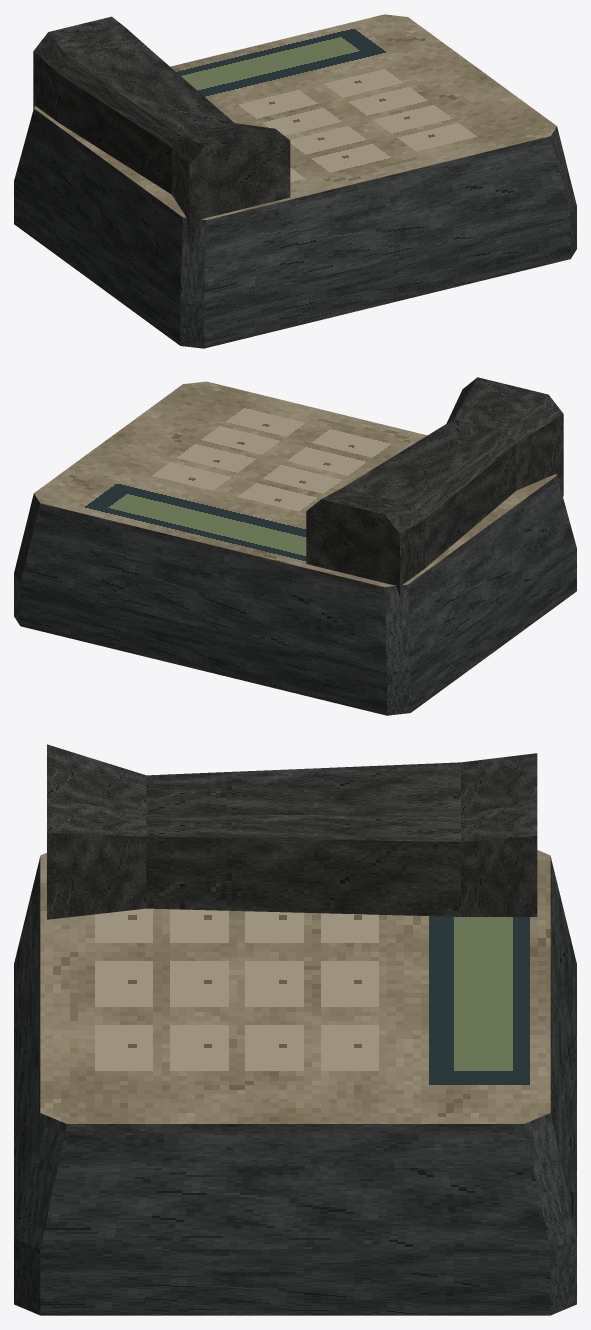
File: phone.glb
3 renders of one model, top to bottom at view 1: azimuth 30°, elevation 25°; view 2: azimuth 150°, elevation 25°; view 3: azimuth 270°, elevation 25°, orthographic. The views are drawn at different scales.
Visible parts, largest first — view 1: Body; view 2: Body; view 3: Body.
Part boxes in pixels (left/top/right/bottom): Body: left=14, top=14, right=576, bottom=348; Body: left=14, top=377, right=576, bottom=715; Body: left=14, top=744, right=576, bottom=1315.
Size of the model in its own units: 0.212 by 0.098 by 0.17.
Materials: 1 (1 with a texture image).
